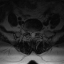CCS_normal: (32, 29, 34, 39)
LFS_stenosis: (36, 27, 38, 35)
LLS_normal: (34, 29, 36, 38)
RFS_stenosis: (27, 27, 29, 34)
RLS_normal: (29, 29, 32, 37)
